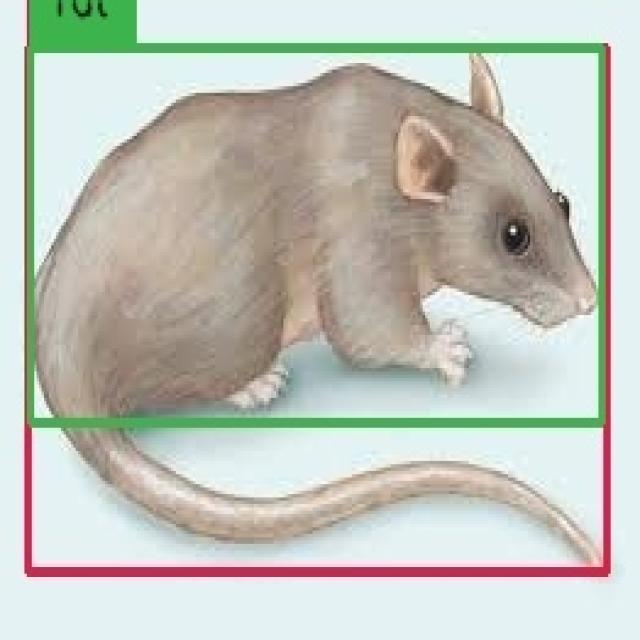rat: (29, 47, 606, 570), (31, 48, 602, 423)
